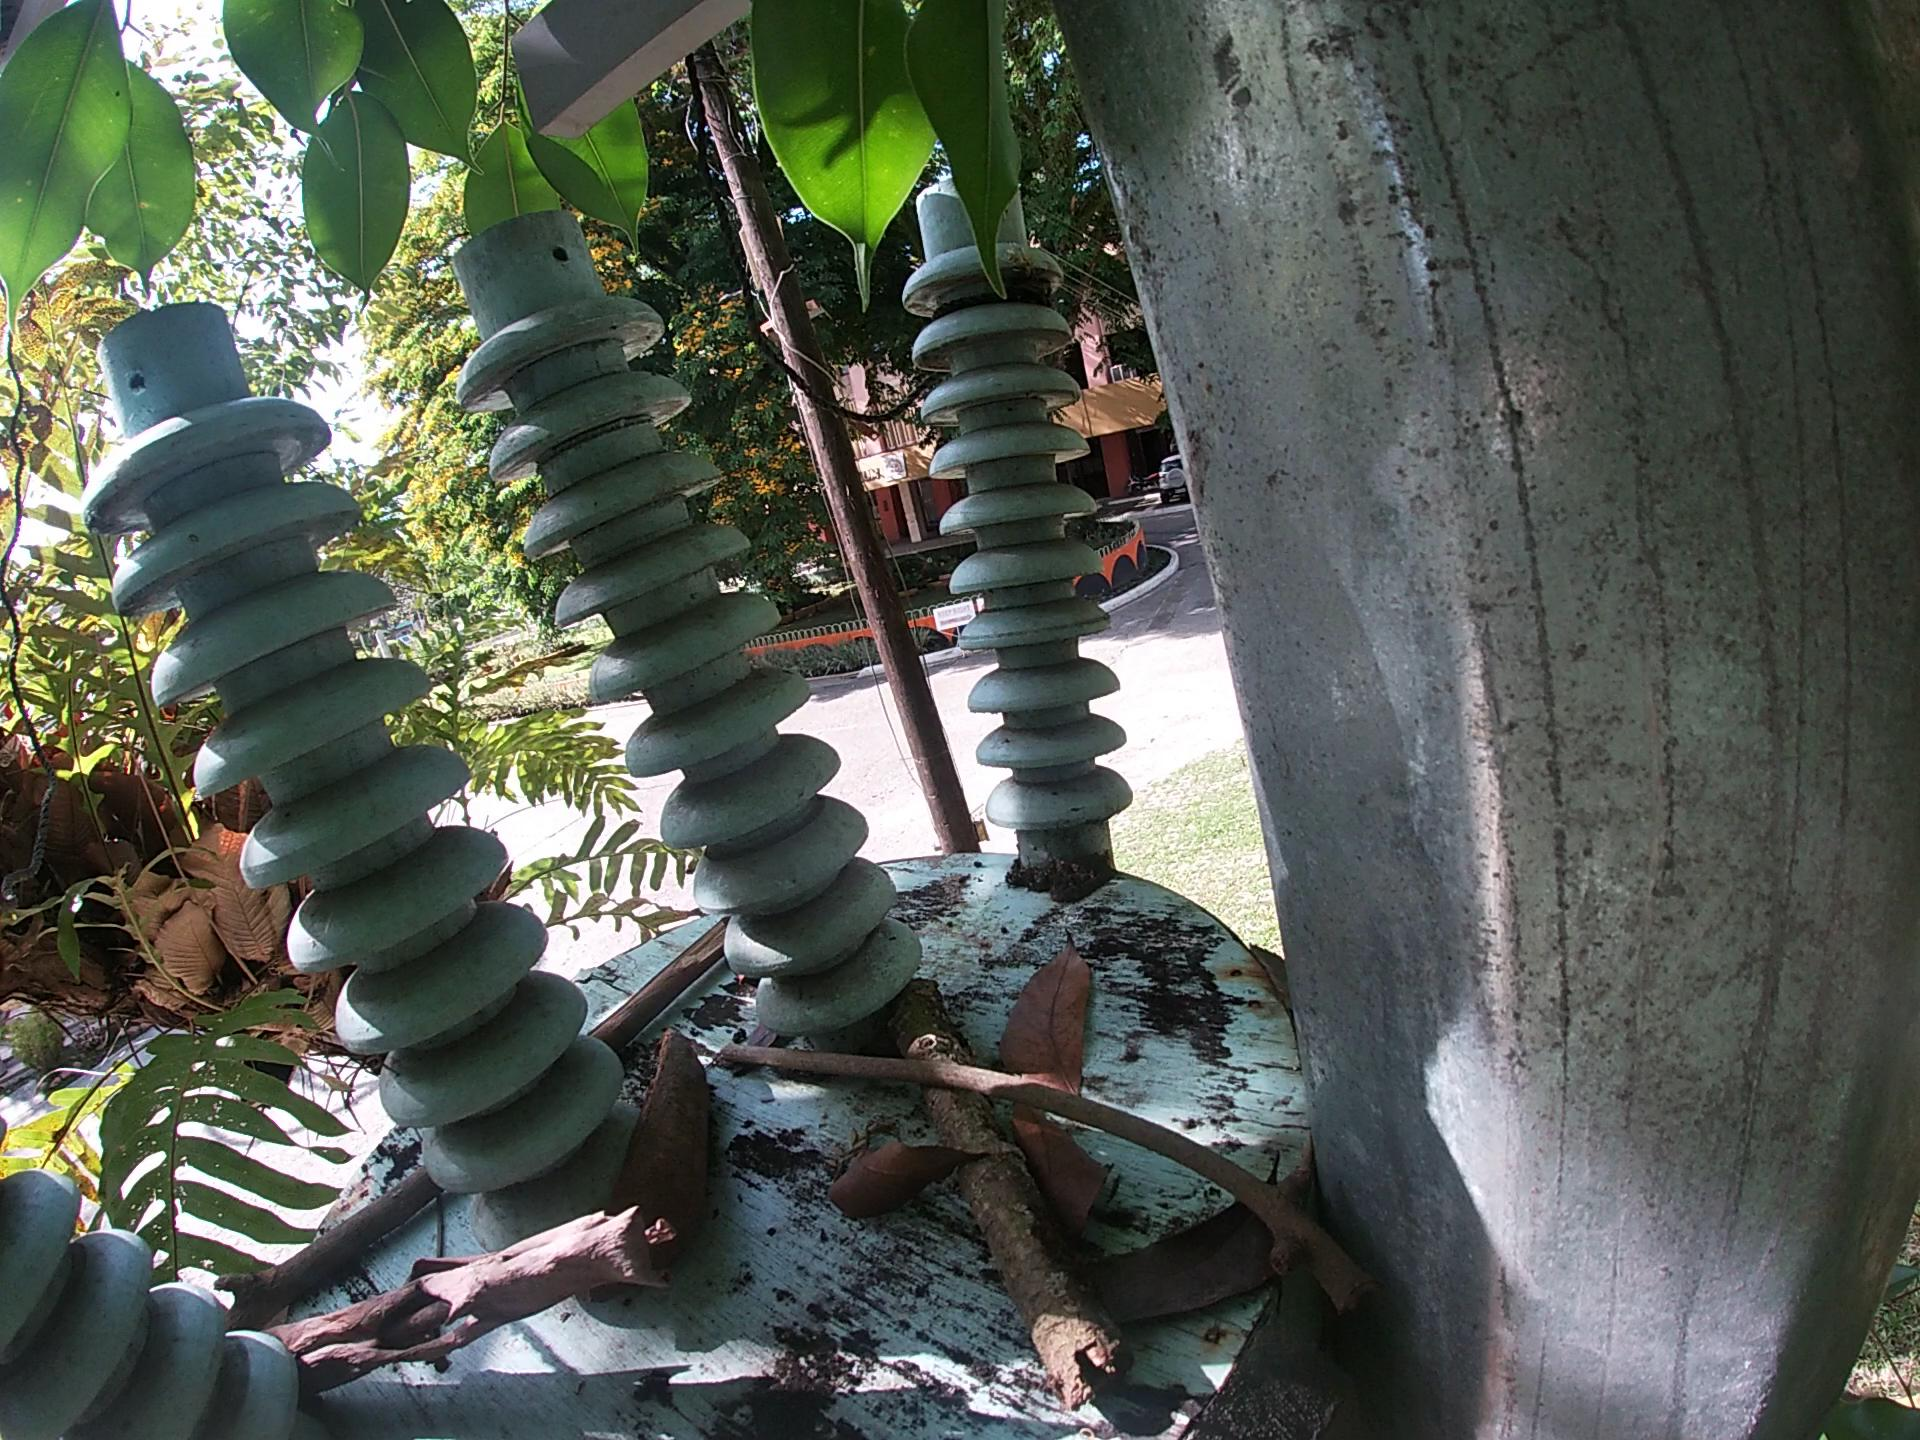leaf: (1067, 1144, 1291, 1342), (989, 926, 1113, 1103), (819, 1130, 993, 1230), (1002, 1100, 1110, 1242)
mahogany fruit: (578, 1021, 726, 1307)
tree branch: (712, 1033, 1388, 1333), (874, 968, 1132, 1425), (249, 1203, 688, 1408), (206, 1162, 447, 1342), (581, 918, 748, 1051)
